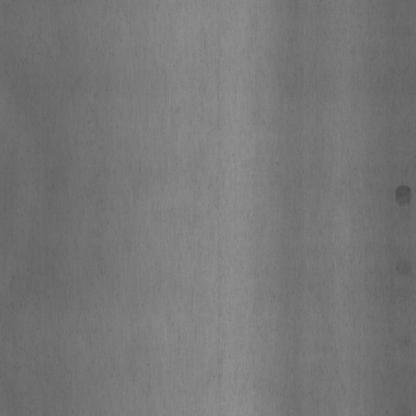oil_spot: (393, 178, 412, 208)
